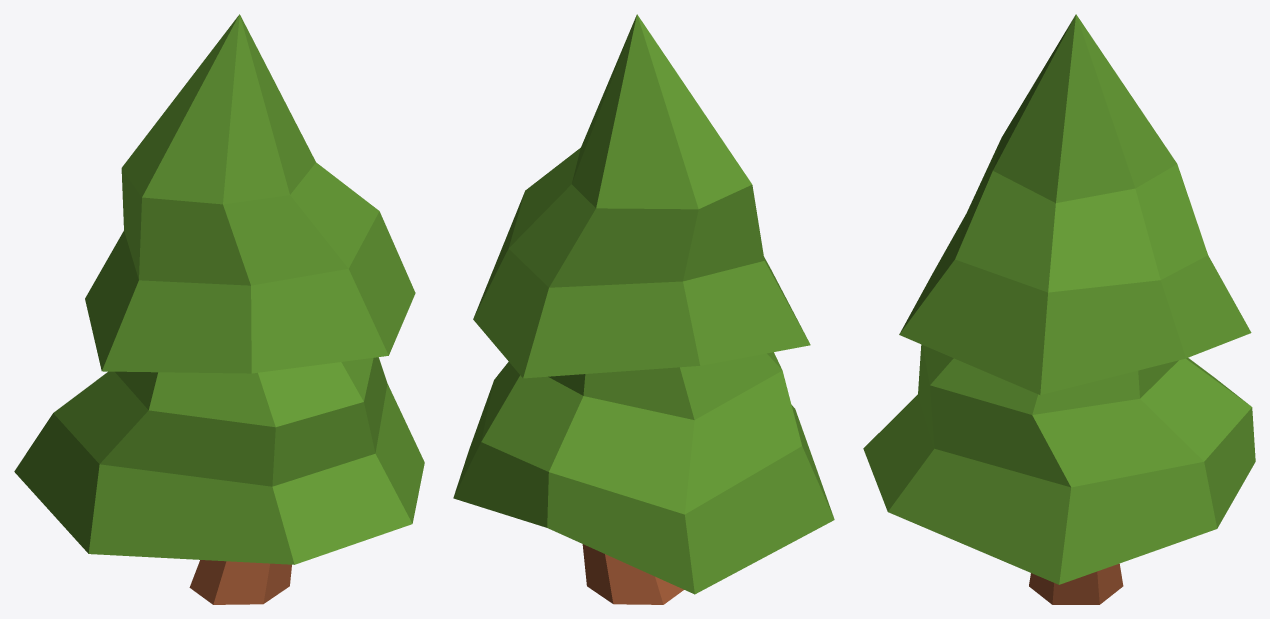
File: Arbol.fbx
3 renders of one model, left to right at view 1: azimuth 30°, elevation 25°; view 2: azimuth 150°, elevation 25°; view 3: azimuth 270°, elevation 25°, orthographic.
Parts seen in each view (by area): view 1: Cone, Cylinder; view 2: Cone, Cylinder; view 3: Cone, Cylinder.
Boxes of the visible parts, x1,y1,x2,y2 form: Cone: [14, 14, 424, 564]; Cylinder: [189, 560, 291, 604]; Cone: [453, 14, 834, 594]; Cylinder: [582, 544, 683, 604]; Cone: [863, 14, 1255, 584]; Cylinder: [1029, 563, 1123, 604].
Size of the model in its own units: 595 by 929 by 577.
